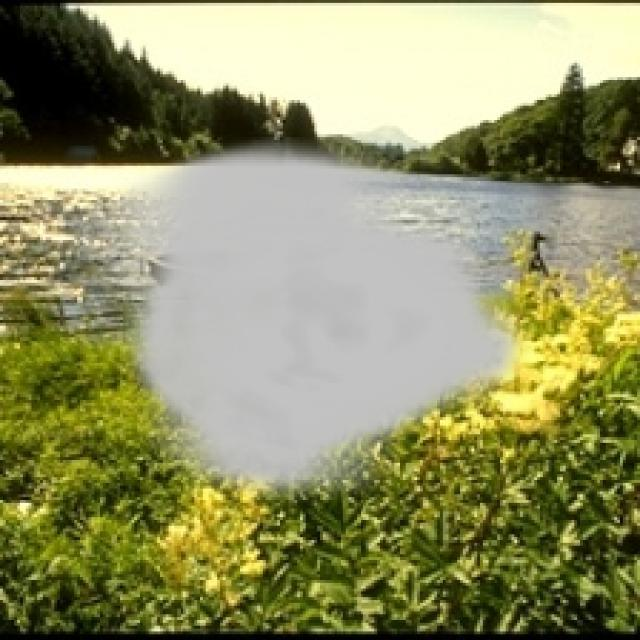Smoke: (119, 137, 532, 509)
